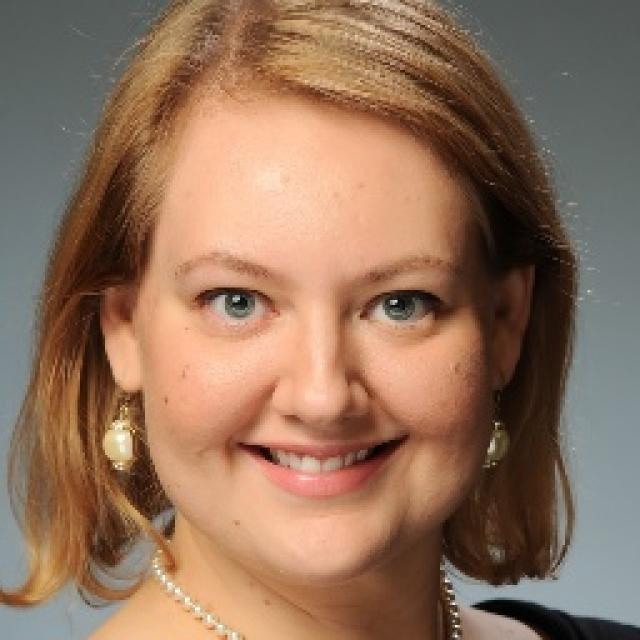earlobe: (491, 259, 534, 394), (99, 279, 143, 391)
